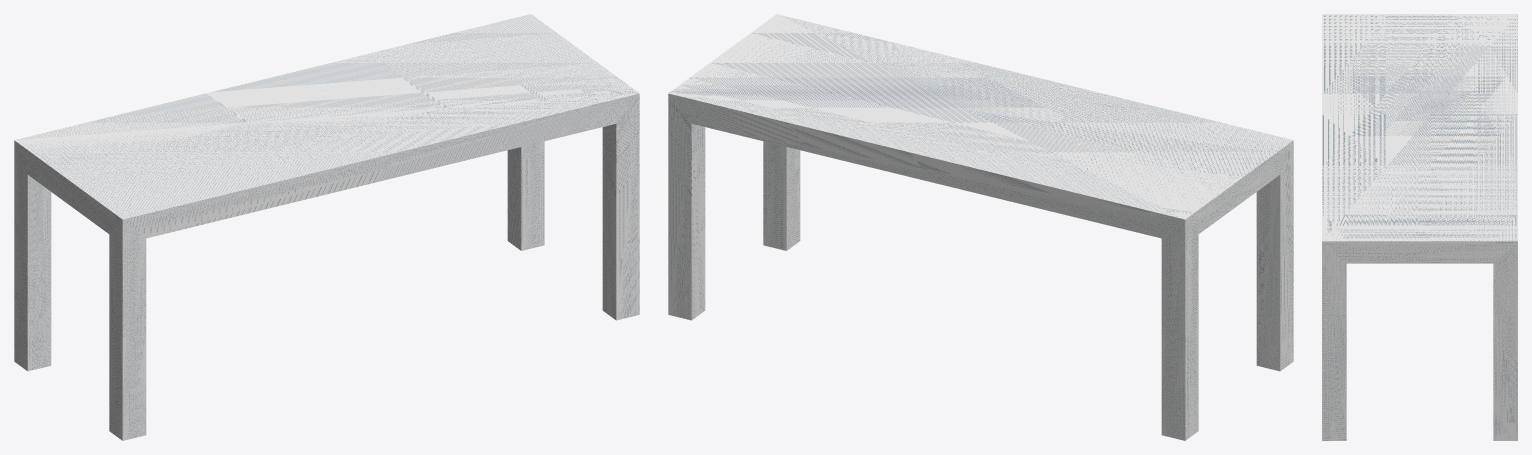
File: table.fbx
The picture shows the model from 3 angles, left to right: view 1: azimuth 30°, elevation 25°; view 2: azimuth 150°, elevation 25°; view 3: azimuth 270°, elevation 25°; orthographic projection. The views are drawn at different scales.
Parts seen in each view (by area): view 1: Model; view 2: Model; view 3: Model.
Boxes of the visible parts, <box> form: Model: <box>14,14,639,440</box>; Model: <box>668,14,1293,440</box>; Model: <box>1322,14,1517,440</box>.
Size of the model in its own units: 11 by 4.5 by 4.
